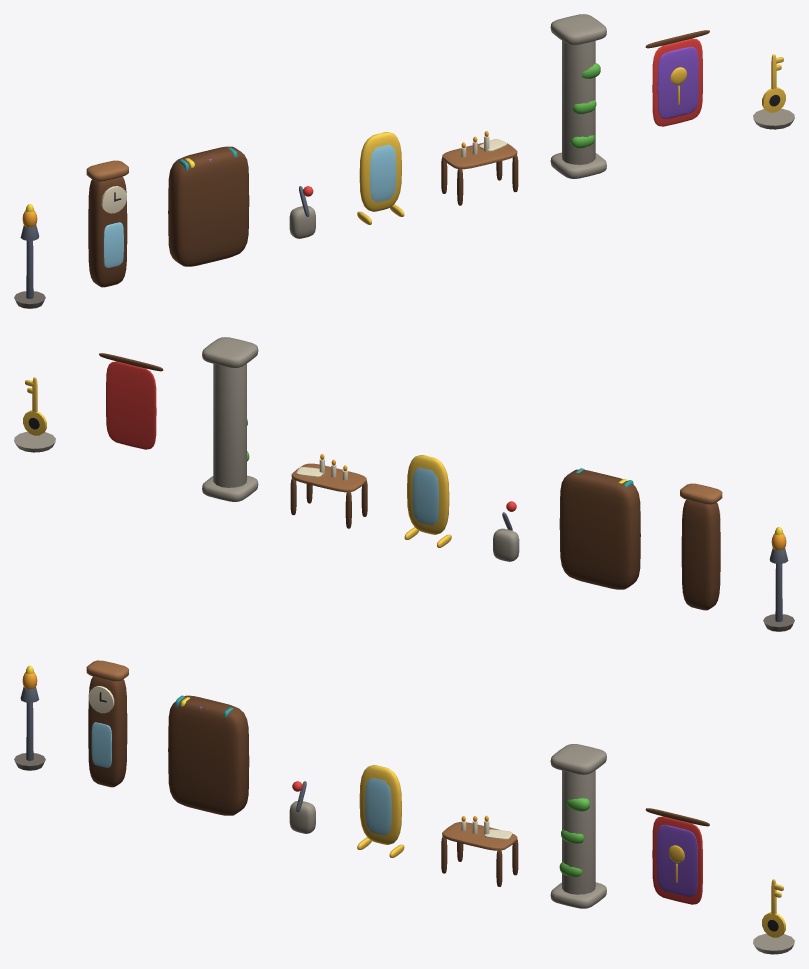
Rendered from Deco_Escape.fbx.
3 views of the same model, one above another, from view 1: azimuth 30°, elevation 25°; view 2: azimuth 150°, elevation 25°; view 3: azimuth 330°, elevation 25° (orthographic).
Parts seen in each view (by area): view 1: Estanteria, Columna, Reloj, Tapiz, MesaVelas, Espejo, Llave, Espejo_Brillo, Antorcha, Palanca; view 2: Estanteria, Columna, Reloj, Tapiz, MesaVelas, Espejo, Llave, Espejo_Brillo, Antorcha, Palanca; view 3: Estanteria, Columna, Reloj, Tapiz, MesaVelas, Espejo, Llave, Espejo_Brillo, Antorcha, Palanca.
Boxes of the visible parts, x1=… form: Estanteria: x1=168, y1=146, x2=249, y2=266; Columna: x1=550, y1=14, x2=606, y2=178; Reloj: x1=86, y1=160, x2=128, y2=287; Tapiz: x1=645, y1=30, x2=709, y2=126; MesaVelas: x1=441, y1=135, x2=518, y2=205; Espejo: x1=357, y1=132, x2=404, y2=224; Llave: x1=753, y1=54, x2=794, y2=129; Espejo_Brillo: x1=370, y1=144, x2=396, y2=202; Antorcha: x1=14, y1=224, x2=45, y2=308; Palanca: x1=289, y1=186, x2=315, y2=238; Estanteria: x1=559, y1=468, x2=640, y2=589; Columna: x1=202, y1=337, x2=258, y2=501; Reloj: x1=680, y1=483, x2=722, y2=610; Tapiz: x1=99, y1=353, x2=163, y2=449; MesaVelas: x1=290, y1=458, x2=367, y2=528; Espejo: x1=404, y1=455, x2=451, y2=547; Llave: x1=14, y1=377, x2=55, y2=452; Espejo_Brillo: x1=412, y1=467, x2=438, y2=525; Antorcha: x1=763, y1=547, x2=794, y2=631; Palanca: x1=493, y1=501, x2=519, y2=561; Estanteria: x1=168, y1=695, x2=249, y2=815; Columna: x1=550, y1=744, x2=606, y2=908; Reloj: x1=86, y1=660, x2=128, y2=787; Tapiz: x1=645, y1=808, x2=709, y2=904; MesaVelas: x1=441, y1=820, x2=518, y2=886; Espejo: x1=357, y1=765, x2=404, y2=857; Llave: x1=753, y1=879, x2=794, y2=954; Espejo_Brillo: x1=365, y1=777, x2=391, y2=835; Antorcha: x1=14, y1=687, x2=45, y2=770; Palanca: x1=289, y1=781, x2=315, y2=833.
Size of the model in its own units: 16.85 by 3.03 by 0.9.
2 materials, 2 textured.
